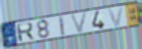4: (92, 10, 107, 31)
8: (36, 19, 52, 39)
I: (58, 15, 67, 37)
R: (15, 22, 36, 43)
V: (69, 11, 89, 34), (107, 6, 125, 29)
